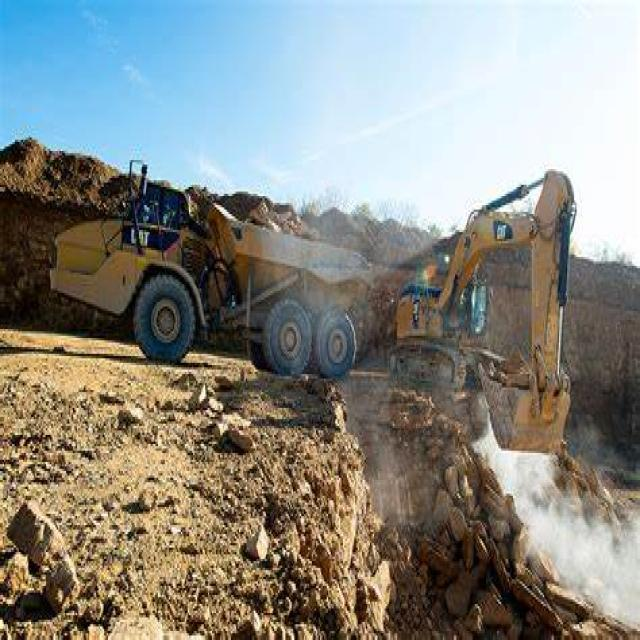dump_truck: (49, 158, 368, 399)
excavator: (386, 153, 605, 451)
